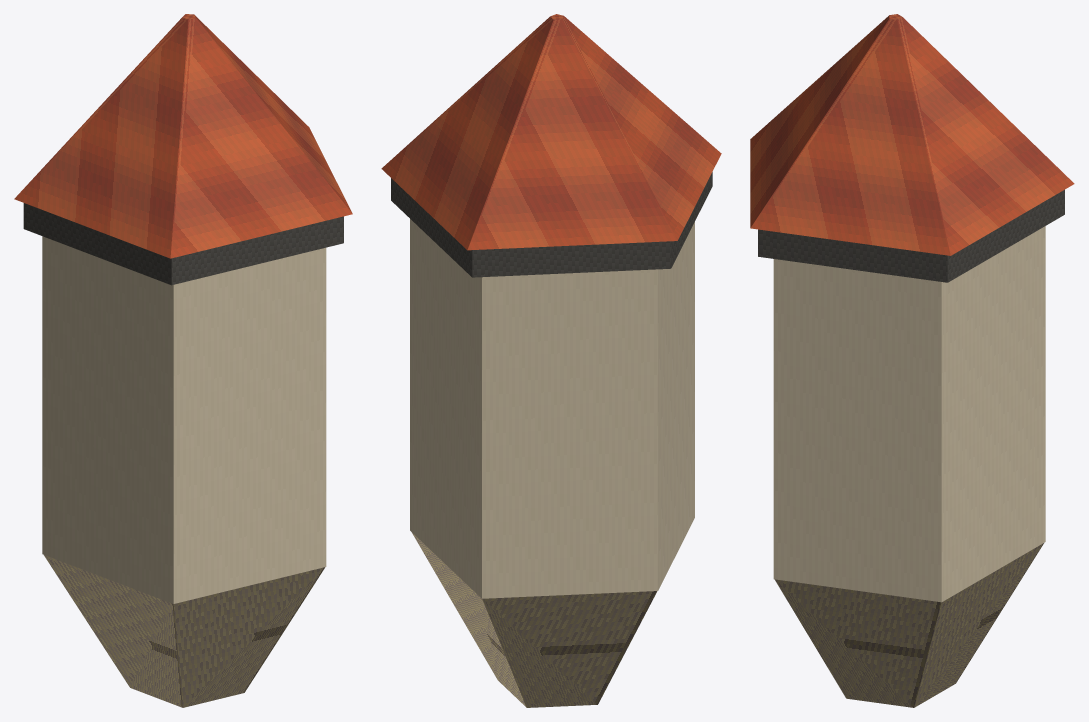
Rendered from corner-turret-lod1.glb.
3 views of the same model, side by side, from view 1: azimuth 30°, elevation 25°; view 2: azimuth 150°, elevation 25°; view 3: azimuth 270°, elevation 25° (orthographic).
Parts seen in each view (by area): view 1: corner-turret-lod1; view 2: corner-turret-lod1; view 3: corner-turret-lod1.
Part boxes in pixels (x1=…): corner-turret-lod1: x1=14, y1=14, x2=352, y2=707; corner-turret-lod1: x1=381, y1=14, x2=721, y2=707; corner-turret-lod1: x1=750, y1=14, x2=1074, y2=707.
Size of the model in its own units: 1.41 by 3.04 by 1.34.
Materials: 1 (1 with a texture image).
